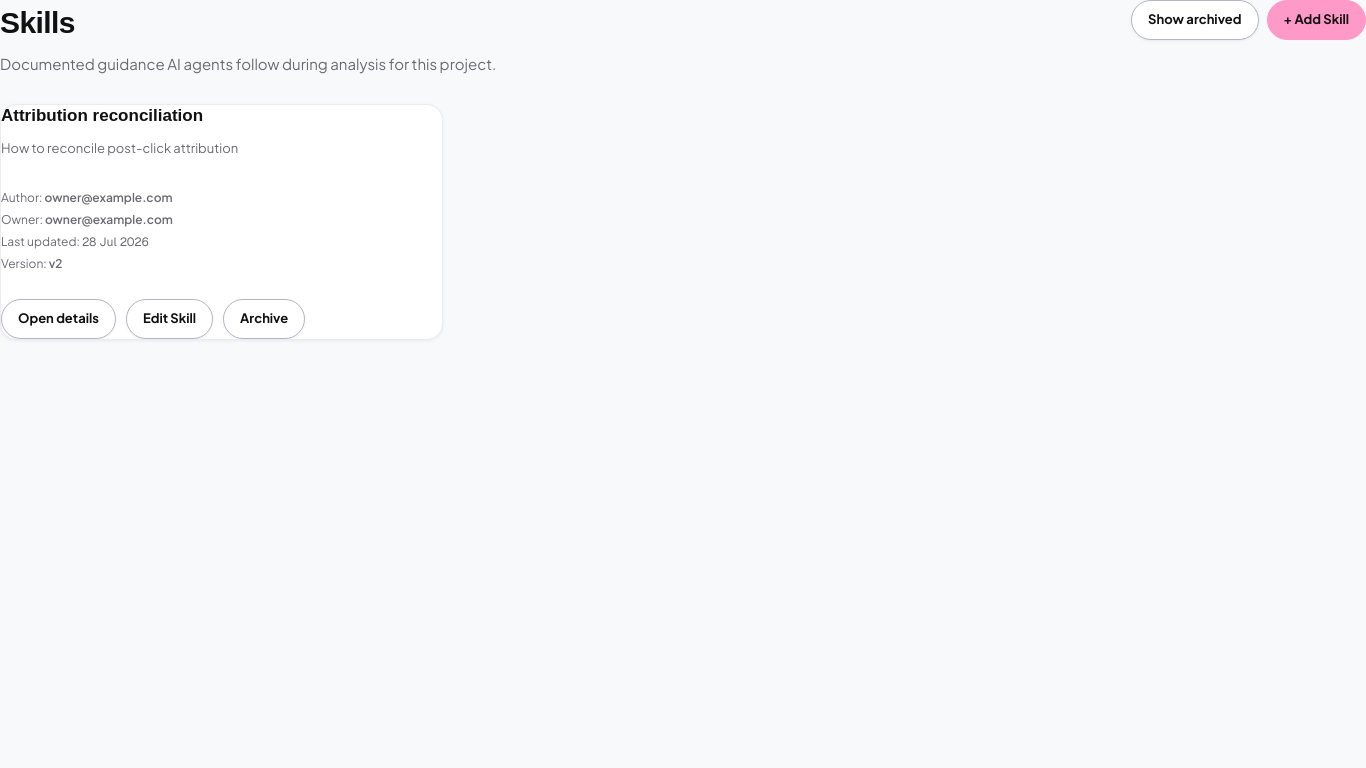
Story 45.2 — the skill drawer, reachable from the page that owns it › keeps a saved skill saved when only its business assignment fails
This screenshot has width=1366, height=768.
Click the button "Edit Skill".
click(170, 318)  # box top-left (126, 298), bottom-right (213, 338)
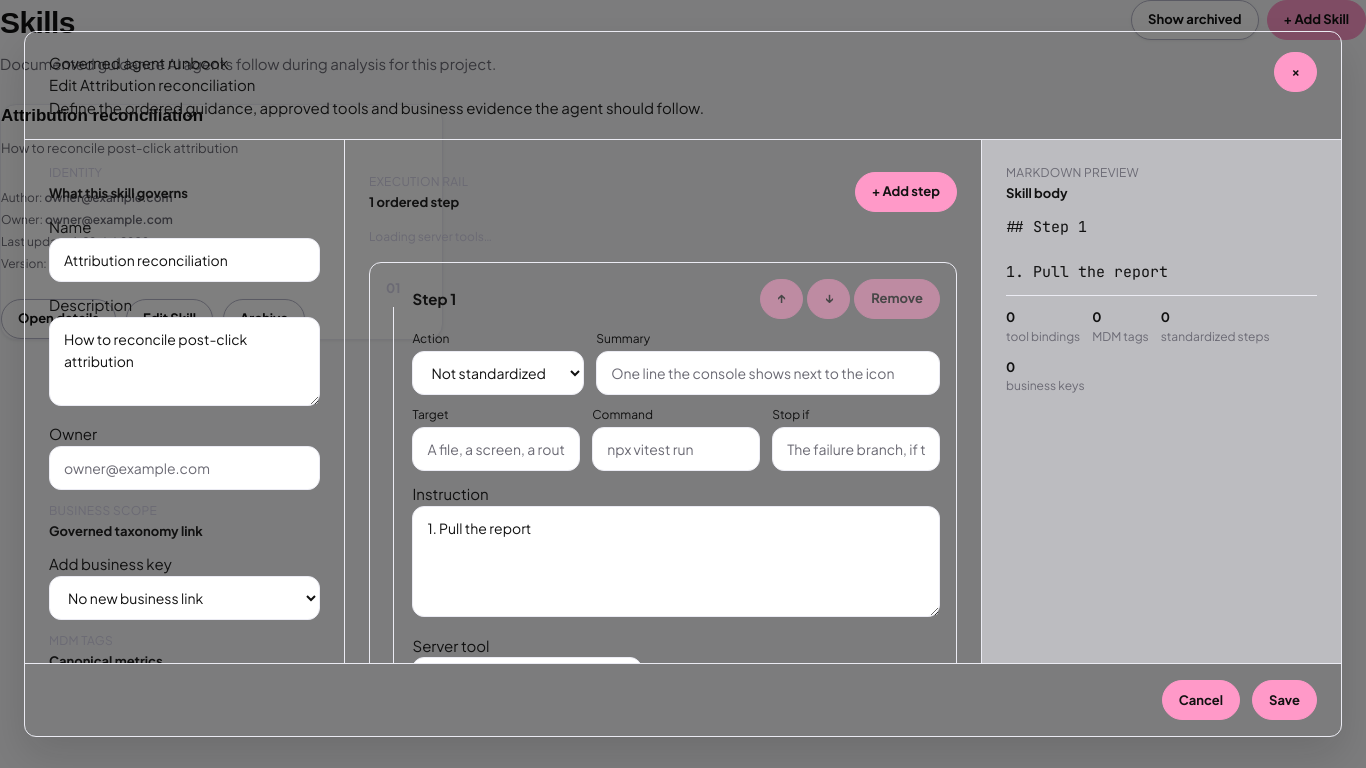
Expected: the dialog is shown
Click the button "Save".
click(1284, 700)  # box top-left (1252, 680), bottom-right (1317, 720)
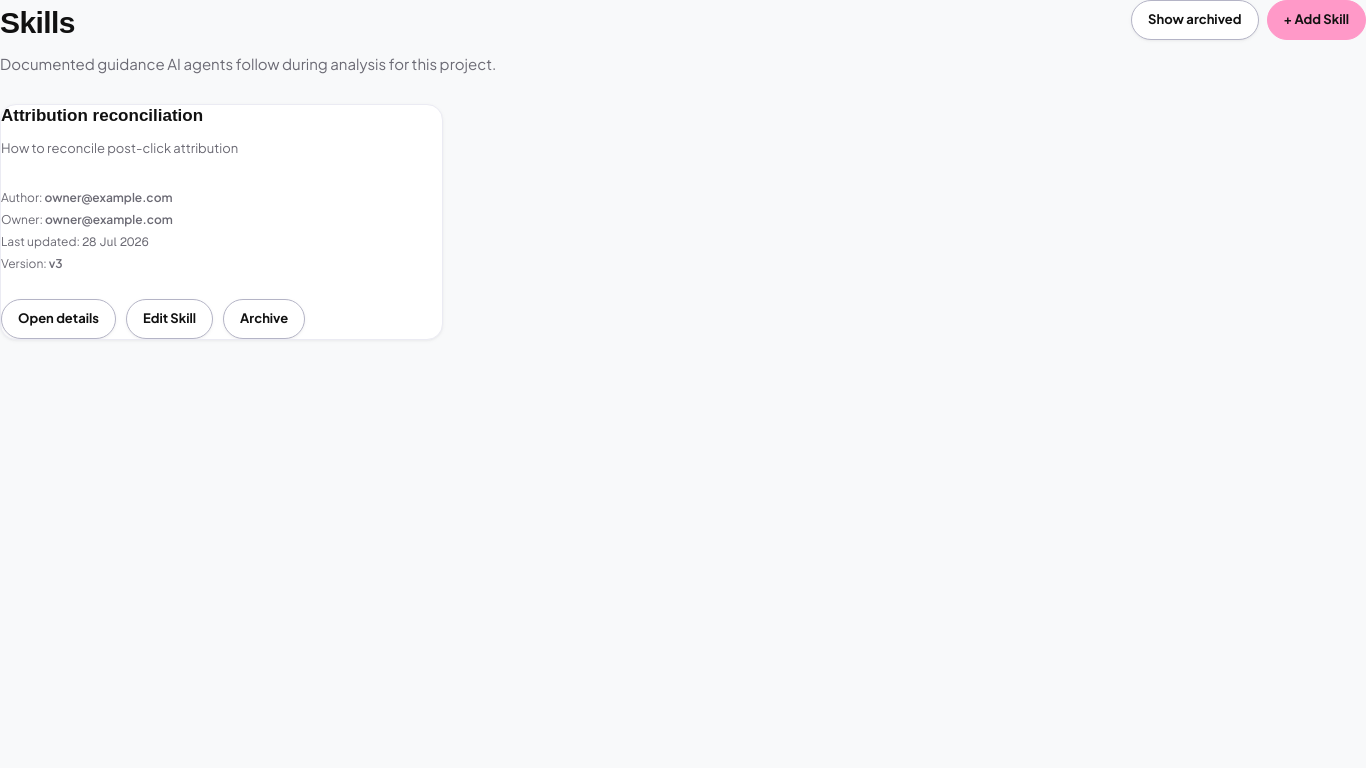
Expected: the dialog is gone
